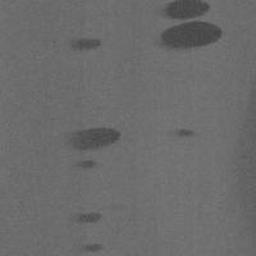Oil spot: (159, 0, 224, 52), (61, 125, 124, 170), (69, 210, 104, 228), (67, 36, 104, 52), (81, 241, 106, 255), (173, 128, 197, 138)
